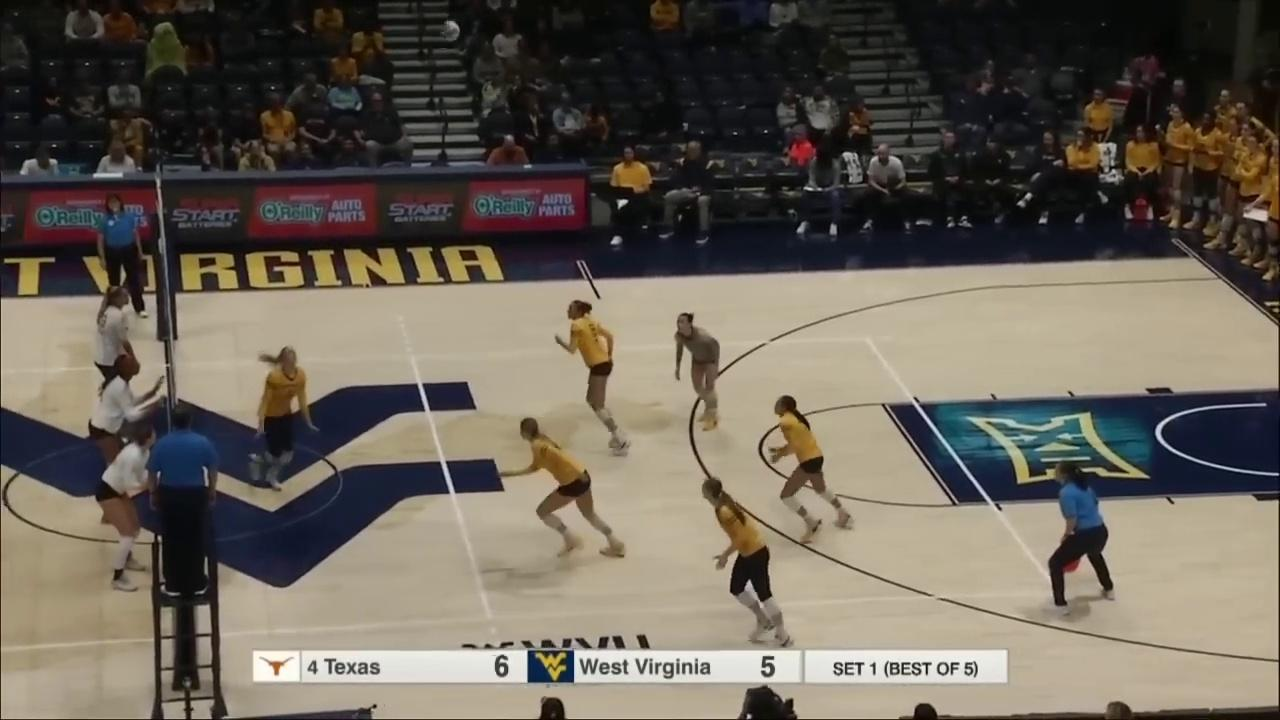player: (503, 419, 635, 563), (701, 477, 794, 646), (770, 395, 860, 543), (553, 301, 633, 456), (88, 356, 164, 508), (97, 424, 157, 593), (248, 344, 317, 489), (673, 313, 730, 434), (96, 287, 139, 442)
refree: (147, 405, 219, 594), (1044, 459, 1117, 617), (99, 193, 149, 317)
